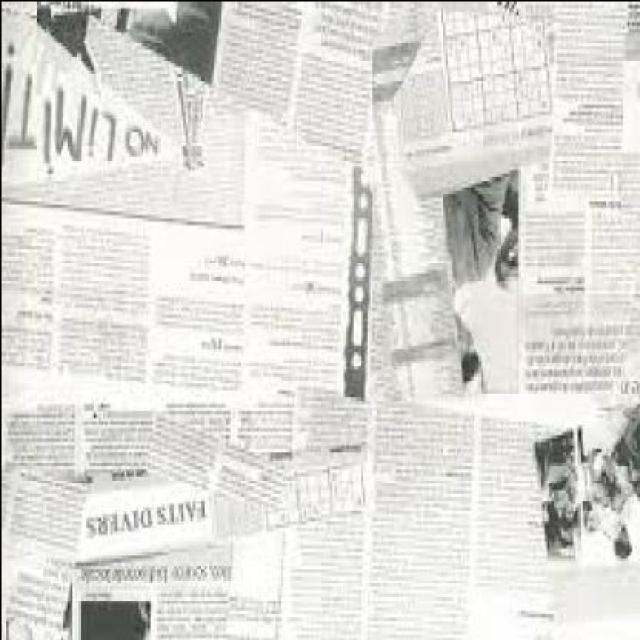PAPER: (2, 4, 366, 399), (376, 3, 638, 400), (291, 398, 638, 638), (2, 376, 289, 638), (2, 3, 180, 186), (548, 4, 638, 213)
